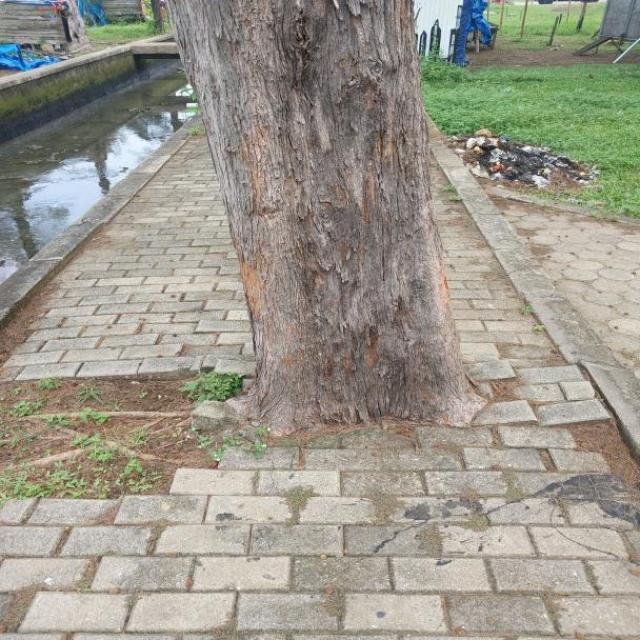tree ahead at: (162, 0, 483, 442)
